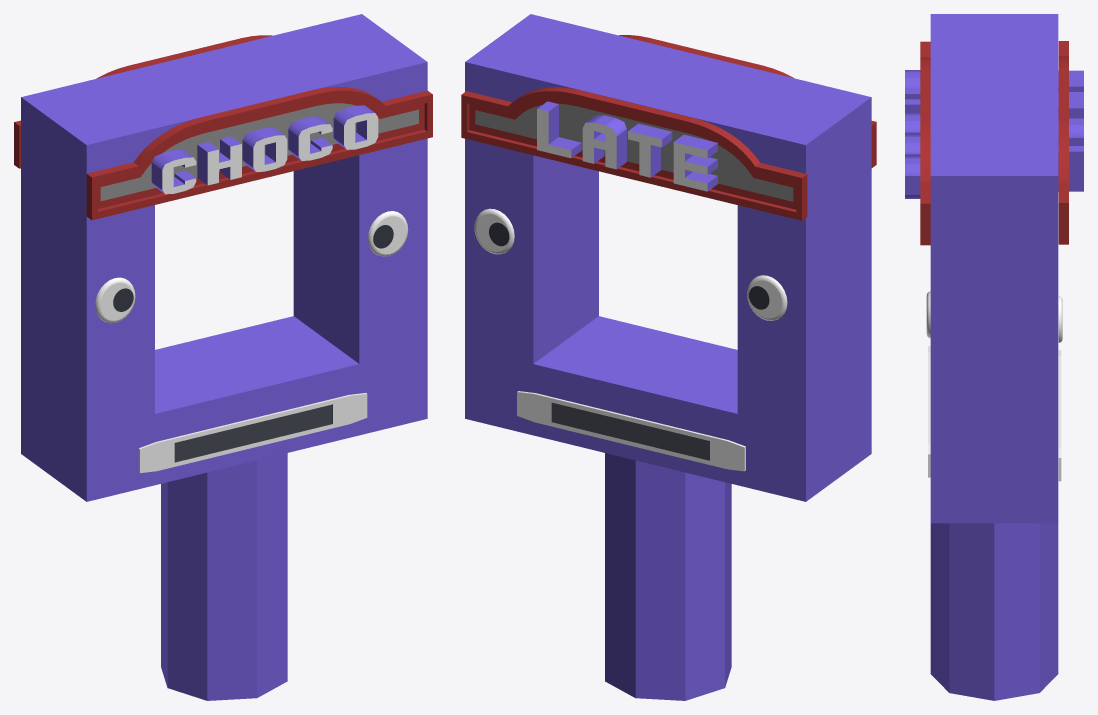
Rendered from CartoonCharacterSignChocoLate.glb.
The picture shows the model from 3 angles, left to right: view 1: azimuth 30°, elevation 25°; view 2: azimuth 150°, elevation 25°; view 3: azimuth 270°, elevation 25°; orthographic projection. The views are drawn at different scales.
Visible parts, largest first — view 1: mergedBlocks(Clone); view 2: mergedBlocks(Clone); view 3: mergedBlocks(Clone).
Boxes of the visible parts, bbox=[...] form: mergedBlocks(Clone): bbox=[14, 14, 432, 700]; mergedBlocks(Clone): bbox=[461, 14, 876, 700]; mergedBlocks(Clone): bbox=[905, 14, 1083, 700].
Bounding box in the file's own units: 3.01 × 5 × 1.4.
